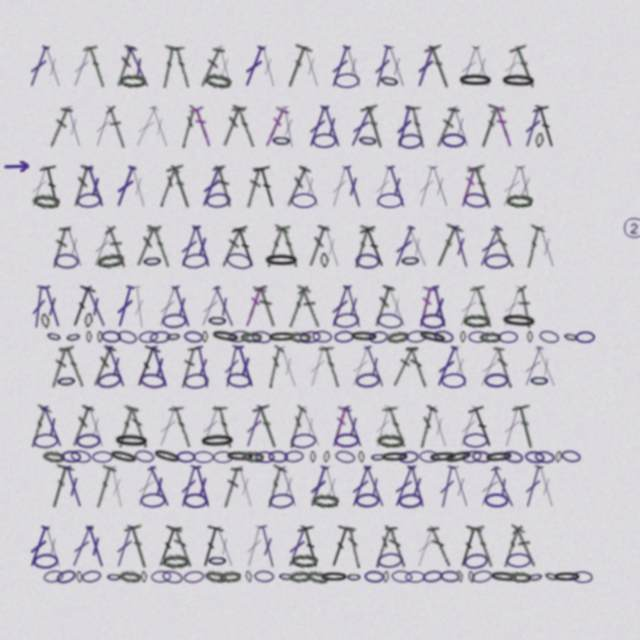chain: (500, 312, 538, 330), (151, 447, 183, 466), (500, 73, 537, 89), (113, 433, 150, 449), (199, 433, 236, 449), (95, 251, 125, 270), (225, 251, 253, 271), (417, 328, 448, 346), (108, 448, 139, 466), (443, 448, 474, 466), (457, 73, 494, 88), (263, 253, 300, 268), (203, 71, 232, 90), (210, 328, 241, 345), (96, 371, 123, 390), (182, 252, 209, 270), (376, 312, 403, 330), (139, 372, 166, 390), (463, 552, 489, 570), (333, 312, 360, 329), (32, 193, 60, 209), (161, 553, 189, 569), (76, 192, 102, 209), (205, 192, 231, 209), (463, 192, 489, 209), (226, 372, 252, 389), (355, 372, 381, 389), (377, 552, 403, 569), (290, 433, 317, 449), (118, 73, 146, 88), (505, 193, 533, 208), (462, 313, 490, 328), (376, 433, 404, 448), (428, 450, 458, 464), (484, 450, 514, 464), (311, 493, 339, 508), (290, 553, 318, 568), (489, 570, 519, 584), (484, 253, 510, 269), (183, 373, 209, 389), (378, 72, 401, 90), (398, 133, 423, 149), (54, 253, 79, 269), (355, 253, 380, 269), (162, 313, 187, 329), (420, 313, 445, 329), (33, 433, 58, 449), (76, 433, 101, 449), (269, 493, 294, 509), (398, 493, 423, 509), (33, 553, 58, 569), (334, 73, 360, 88), (291, 193, 317, 208), (377, 193, 403, 208), (349, 330, 379, 343), (225, 450, 255, 463), (140, 493, 166, 508), (312, 133, 337, 148), (441, 133, 466, 148), (441, 373, 466, 388), (484, 373, 509, 388), (334, 433, 359, 448), (463, 433, 488, 448), (183, 493, 208, 508), (355, 493, 380, 508), (484, 493, 509, 508), (506, 553, 531, 568), (357, 132, 379, 149), (55, 568, 77, 585), (386, 329, 409, 345), (161, 569, 184, 585), (306, 569, 329, 585), (267, 331, 297, 343), (380, 451, 410, 463), (319, 571, 349, 583), (552, 571, 582, 583), (116, 329, 138, 345), (538, 329, 560, 345), (334, 449, 356, 465), (502, 449, 524, 465), (204, 569, 227, 584), (142, 253, 163, 269), (56, 373, 77, 389), (228, 329, 250, 344), (70, 449, 92, 464), (461, 449, 483, 464), (560, 449, 582, 464), (471, 569, 493, 584), (271, 133, 292, 148), (400, 253, 421, 268), (207, 313, 228, 328), (433, 329, 454, 344), (529, 373, 550, 388), (134, 449, 155, 464), (207, 553, 228, 568), (43, 569, 64, 584), (81, 569, 102, 584), (422, 569, 443, 584), (149, 330, 171, 344), (299, 330, 321, 344), (183, 570, 205, 584), (42, 450, 65, 463), (138, 330, 159, 344), (183, 330, 204, 344), (251, 330, 272, 344), (368, 330, 389, 344), (398, 450, 419, 464), (471, 450, 492, 464), (524, 450, 545, 464), (534, 450, 555, 464), (242, 450, 264, 463), (119, 570, 141, 583), (219, 570, 241, 583), (289, 570, 311, 583), (391, 570, 413, 583), (406, 330, 427, 343), (45, 329, 63, 344), (543, 569, 561, 584), (240, 331, 262, 343), (289, 331, 311, 343), (479, 331, 501, 343), (509, 571, 531, 583), (101, 330, 121, 343), (312, 330, 332, 343), (334, 330, 354, 343), (61, 450, 81, 463), (268, 450, 288, 463), (284, 450, 304, 463), (419, 450, 439, 463), (151, 570, 171, 583), (254, 570, 274, 583), (364, 570, 384, 583), (440, 570, 460, 583), (562, 330, 580, 344), (92, 451, 113, 463), (193, 451, 214, 463), (572, 571, 593, 583), (468, 331, 488, 343), (498, 331, 518, 343), (575, 331, 595, 343), (176, 451, 196, 463), (213, 451, 233, 463), (255, 451, 275, 463), (405, 571, 425, 583), (65, 330, 82, 344), (527, 570, 544, 584), (165, 330, 182, 343), (278, 570, 294, 583), (370, 451, 386, 463), (106, 571, 122, 583), (346, 571, 362, 583), (40, 313, 51, 329), (535, 133, 544, 148), (320, 253, 329, 268), (84, 313, 93, 328), (245, 570, 253, 583), (456, 570, 464, 583), (323, 451, 330, 463), (358, 451, 365, 463), (555, 451, 562, 463), (76, 571, 83, 583), (468, 571, 475, 583), (86, 331, 92, 343), (97, 331, 103, 343), (202, 331, 208, 343), (460, 331, 466, 343), (527, 331, 533, 343), (310, 451, 316, 463), (141, 571, 147, 583), (383, 571, 389, 583)
double: (430, 223, 464, 270), (509, 44, 542, 90), (281, 44, 313, 90), (424, 44, 456, 90), (474, 104, 506, 150), (467, 164, 499, 210), (359, 224, 391, 270), (130, 344, 162, 390), (252, 404, 284, 450), (467, 404, 499, 450), (166, 164, 197, 210), (66, 284, 97, 330), (152, 524, 183, 570), (281, 284, 312, 329), (360, 104, 390, 150), (231, 224, 261, 270), (45, 464, 75, 510), (124, 524, 154, 570), (325, 524, 355, 570), (488, 465, 519, 509), (260, 224, 290, 269), (81, 284, 111, 329), (475, 464, 505, 509), (532, 104, 561, 150), (253, 164, 282, 210), (196, 524, 225, 570), (454, 524, 483, 570), (124, 45, 154, 89), (131, 105, 161, 149), (260, 105, 290, 149), (346, 105, 376, 149), (282, 165, 312, 209), (475, 345, 505, 389), (231, 104, 260, 149), (497, 164, 526, 209), (403, 224, 432, 269), (475, 224, 504, 269), (196, 284, 225, 329), (210, 284, 239, 329), (454, 284, 483, 329), (59, 344, 88, 389), (432, 344, 461, 389), (532, 344, 561, 389), (24, 404, 53, 449), (38, 404, 67, 449), (296, 404, 325, 449), (382, 404, 411, 449), (145, 464, 174, 509), (389, 464, 418, 509), (67, 524, 96, 569), (497, 524, 526, 569), (512, 404, 540, 450), (297, 524, 325, 570), (68, 44, 96, 89), (240, 44, 268, 89), (218, 104, 246, 149), (111, 164, 139, 209), (197, 164, 225, 209), (132, 224, 160, 269), (146, 224, 174, 269), (347, 224, 375, 269), (390, 224, 418, 269), (383, 284, 411, 329), (498, 284, 526, 329), (89, 344, 117, 389), (361, 344, 389, 389), (519, 344, 547, 389), (111, 404, 139, 449), (154, 404, 182, 449), (168, 404, 196, 449), (89, 464, 117, 509), (132, 464, 160, 509), (361, 464, 389, 509), (283, 524, 311, 569), (469, 524, 497, 569), (511, 525, 540, 568), (197, 45, 225, 89), (218, 225, 246, 269), (25, 44, 52, 89), (82, 44, 109, 89), (412, 44, 439, 89), (455, 44, 482, 89), (146, 104, 173, 149), (189, 104, 216, 149), (304, 104, 331, 149), (447, 104, 474, 149), (490, 104, 517, 149), (39, 164, 66, 209), (82, 164, 109, 209), (297, 164, 324, 209), (89, 224, 116, 269), (275, 224, 302, 269), (304, 224, 331, 269), (154, 284, 181, 329), (240, 284, 267, 329), (254, 284, 281, 329), (469, 284, 496, 329), (103, 344, 130, 389), (232, 344, 259, 389), (275, 344, 302, 389), (318, 344, 345, 389), (347, 344, 374, 389), (68, 404, 95, 449), (197, 404, 224, 449), (340, 404, 367, 449), (455, 404, 482, 449), (261, 464, 288, 509), (347, 464, 374, 509), (25, 524, 52, 569), (111, 524, 138, 569), (211, 524, 238, 569), (412, 524, 439, 569), (46, 105, 73, 149), (433, 105, 460, 149), (297, 285, 324, 329), (40, 44, 66, 89), (112, 44, 138, 89), (169, 44, 195, 89), (298, 44, 324, 89), (327, 44, 353, 89), (384, 44, 410, 89), (499, 44, 525, 89), (90, 104, 116, 149), (319, 104, 345, 149), (520, 104, 546, 149), (26, 164, 52, 209), (384, 164, 410, 209), (427, 164, 453, 209), (61, 224, 87, 269), (176, 224, 202, 269), (520, 224, 546, 269), (534, 224, 560, 269), (169, 284, 195, 329), (327, 284, 353, 329), (370, 284, 396, 329), (147, 344, 173, 389), (83, 404, 109, 449), (241, 404, 267, 449), (499, 404, 525, 449), (61, 464, 87, 509), (276, 464, 302, 509), (305, 464, 331, 509), (319, 464, 345, 509), (448, 464, 474, 509), (40, 524, 66, 569), (83, 524, 109, 569), (390, 345, 417, 388), (104, 225, 130, 269), (491, 225, 517, 269), (427, 525, 453, 569), (155, 44, 180, 89), (341, 44, 366, 89), (470, 44, 495, 89), (61, 104, 86, 149), (405, 104, 430, 149), (69, 164, 94, 209), (126, 164, 151, 209), (212, 164, 237, 209), (327, 164, 352, 209), (341, 164, 366, 209), (370, 164, 395, 209), (456, 164, 481, 209), (190, 224, 215, 269), (319, 224, 344, 269), (40, 284, 65, 329), (341, 284, 366, 329), (305, 344, 330, 389), (448, 344, 473, 389), (212, 404, 237, 449), (327, 404, 352, 449), (370, 404, 395, 449), (427, 404, 452, 449), (176, 464, 201, 509), (233, 464, 258, 509), (405, 464, 430, 509), (534, 464, 559, 509), (155, 165, 181, 208), (213, 44, 237, 89), (256, 44, 280, 89), (392, 104, 416, 149), (414, 164, 438, 209), (449, 224, 473, 269), (113, 284, 137, 329), (191, 464, 215, 509), (521, 464, 545, 509), (242, 524, 266, 569), (256, 524, 280, 569), (105, 105, 129, 149), (414, 405, 438, 449), (170, 525, 194, 569), (371, 525, 395, 569), (371, 44, 394, 89), (514, 164, 537, 209), (414, 284, 437, 329), (428, 284, 451, 329), (220, 344, 243, 389), (177, 105, 200, 149), (48, 345, 71, 389), (406, 345, 429, 389), (127, 405, 150, 449), (285, 405, 308, 449), (220, 465, 243, 509), (385, 525, 408, 569), (243, 165, 265, 209), (49, 225, 71, 269), (192, 345, 214, 389), (493, 345, 515, 389), (106, 465, 128, 509), (436, 465, 458, 509), (278, 105, 299, 149), (178, 345, 199, 389), (264, 345, 285, 389), (29, 285, 48, 329), (516, 285, 535, 329), (130, 285, 148, 329), (345, 525, 363, 569)
noise: (621, 215, 640, 241), (3, 161, 31, 172)
